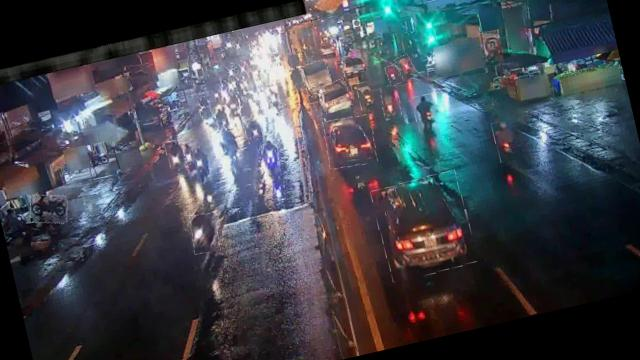Bike: (26, 190, 71, 230), (188, 211, 222, 255), (492, 119, 520, 163), (412, 94, 441, 132), (258, 138, 284, 178), (379, 84, 404, 120), (218, 128, 244, 162), (356, 80, 378, 110), (242, 116, 264, 146), (192, 148, 212, 180), (200, 105, 220, 136), (395, 54, 417, 82), (165, 139, 186, 168), (266, 86, 284, 115), (226, 92, 240, 119), (182, 142, 196, 168), (385, 64, 401, 86), (214, 105, 228, 128)
Car: (370, 170, 478, 284), (321, 112, 380, 172), (317, 79, 354, 114), (341, 54, 366, 82)
Truck: (300, 60, 334, 96)
